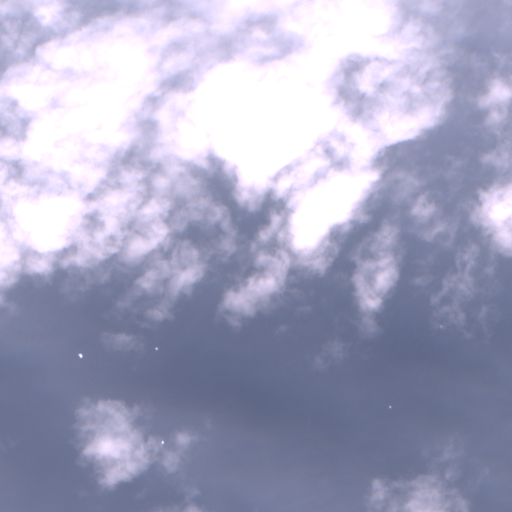Iceberg: (78, 353, 82, 357), (389, 405, 391, 408), (161, 440, 163, 443), (155, 347, 157, 349)
